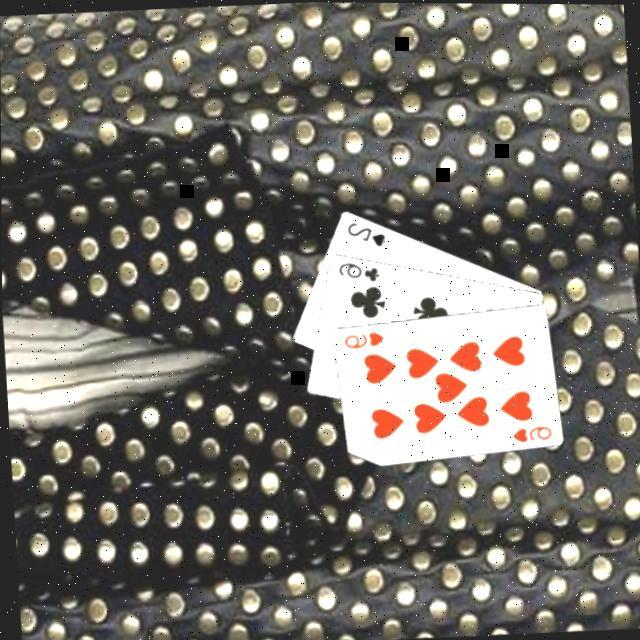2S: (341, 215, 387, 249)
6C: (333, 256, 380, 284)
9H: (337, 325, 384, 349), (505, 420, 551, 444)
